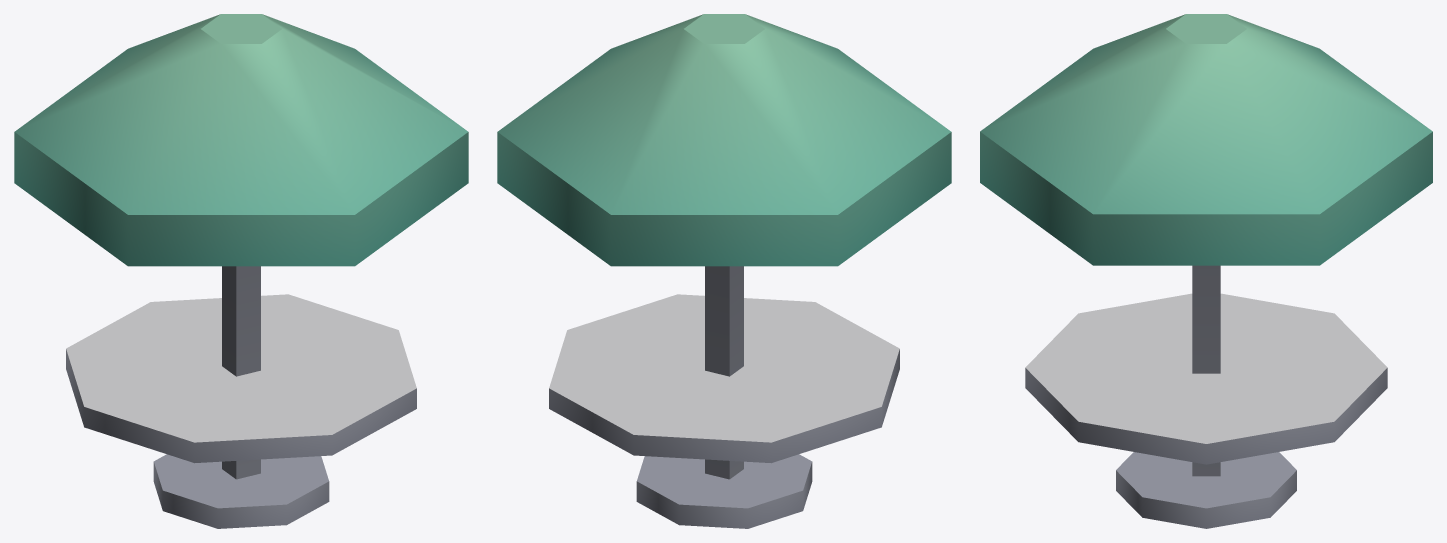
The model's file is detail-parasol-a.glb.
3 renders of one model, left to right at view 1: azimuth 30°, elevation 25°; view 2: azimuth 150°, elevation 25°; view 3: azimuth 270°, elevation 25°, orthographic.
Parts seen in each view (by area): view 1: detail-parasol-a; view 2: detail-parasol-a; view 3: detail-parasol-a.
Part boxes in pixels (x1,y1,x2,y2): detail-parasol-a: (14,14,468,528); detail-parasol-a: (497,14,951,528); detail-parasol-a: (980,14,1432,528).
Size of the model in its own units: 0.3464 by 0.45 by 0.4.
